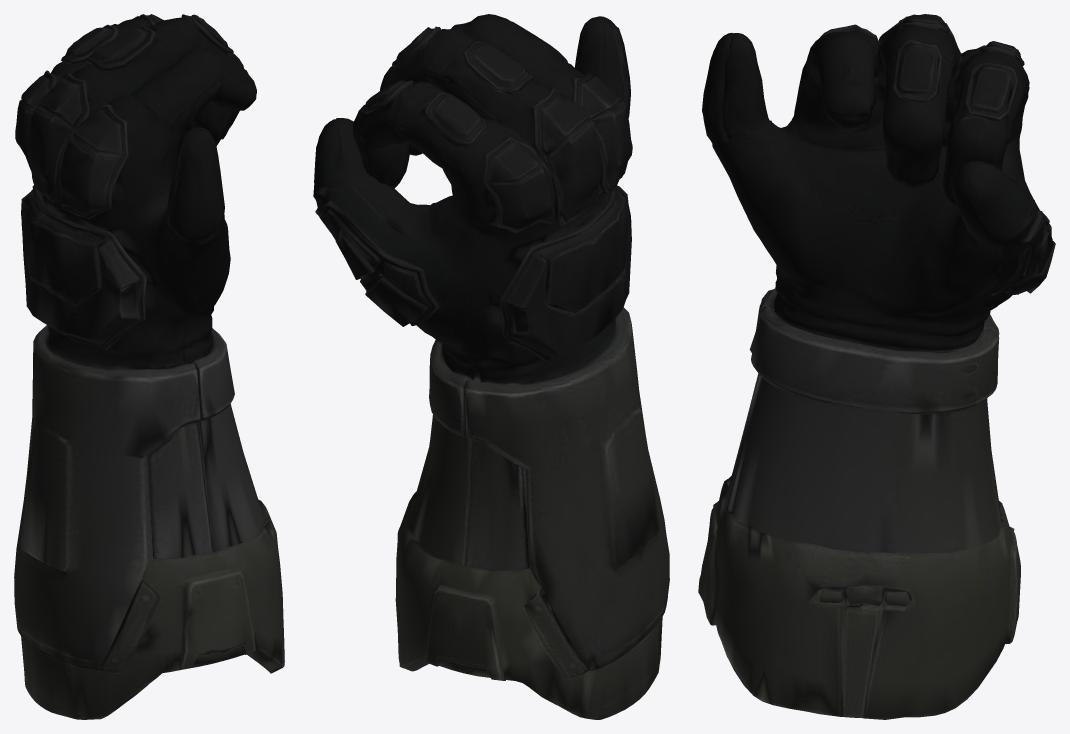
Rendered from hand.glb.
The picture shows the model from 3 angles, left to right: view 1: azimuth 30°, elevation 25°; view 2: azimuth 150°, elevation 25°; view 3: azimuth 270°, elevation 25°; orthographic projection. The views are drawn at different scales.
Visible parts, largest first — view 1: hand; view 2: hand; view 3: hand.
Part boxes in pixels (x1,y1,x2,y2): hand: [14, 14, 284, 719]; hand: [313, 14, 669, 719]; hand: [698, 14, 1055, 719].
Bounding box in the file's own units: 0.1332 × 0.31 × 0.1462.
1 material, 1 textured.
